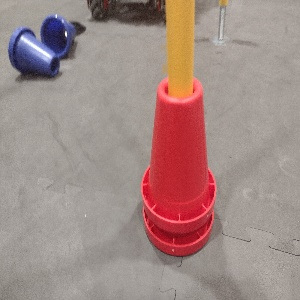Blue_1: (7, 23, 61, 79), (39, 15, 79, 58)
Red_2: (139, 75, 217, 257)
